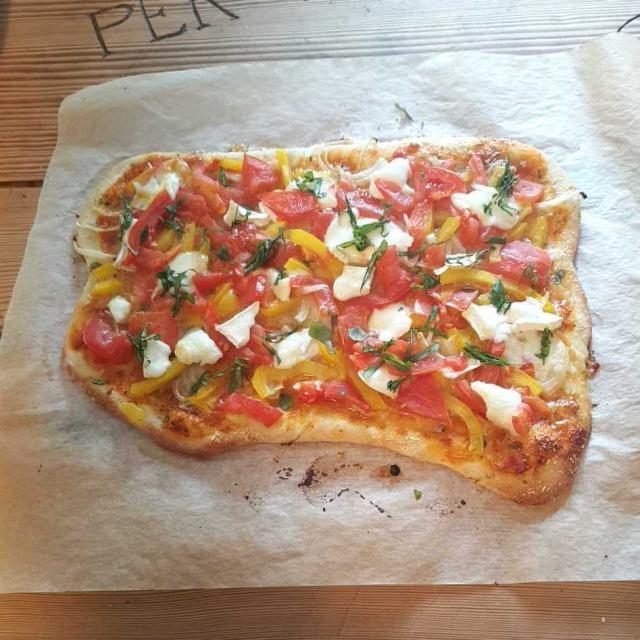bell-pepper: (84, 211, 521, 406)
pizza: (67, 137, 590, 488)
